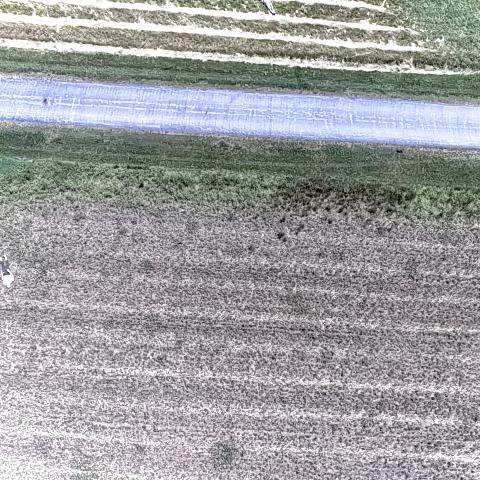person: (0, 248, 15, 290)
